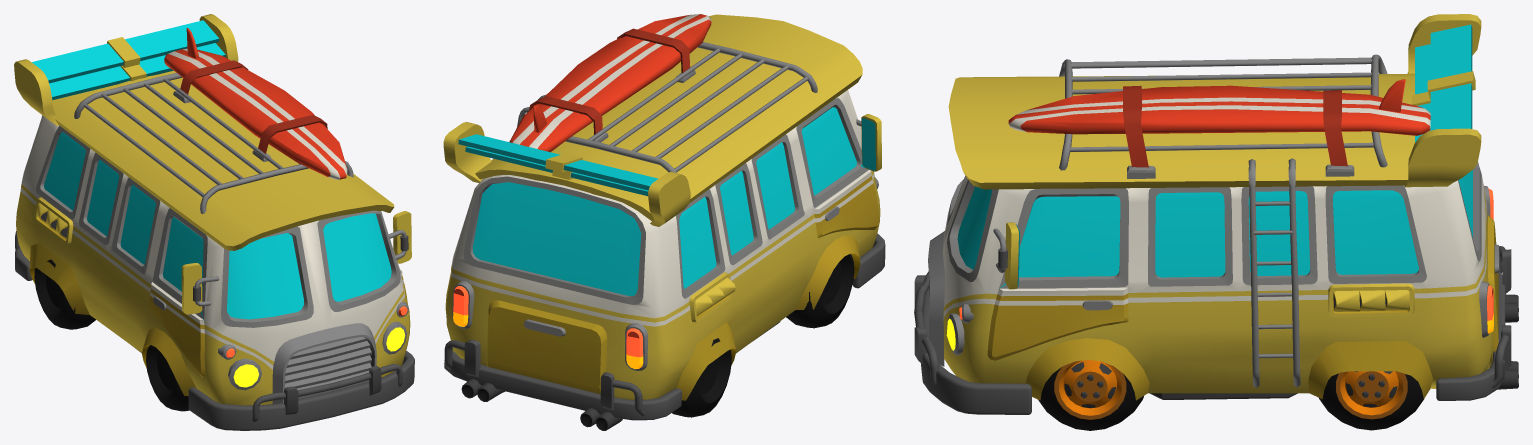
The model's file is VEH22_B.fbx.
3 views of the same model, side by side, from view 1: azimuth 30°, elevation 25°; view 2: azimuth 150°, elevation 25°; view 3: azimuth 270°, elevation 25° (orthographic). The views are drawn at different scales.
Visible parts, largest first — view 1: VEH22_B, VEH22B_BodyParts, VEH22B_Wheel_BR, VEH22B_Wheel_FR; view 2: VEH22_B, VEH22B_BodyParts, VEH22B_Wheel_FR, VEH22B_Wheel_BR; view 3: VEH22_B, VEH22B_BodyParts, VEH22B_Wheel_FL, VEH22B_Wheel_BL.
Part boxes in pixels (left/top/right/bottom): VEH22_B: left=14, top=14, right=414, bottom=430; VEH22B_BodyParts: left=164, top=28, right=347, bottom=179; VEH22B_Wheel_BR: left=34, top=259, right=95, bottom=329; VEH22B_Wheel_FR: left=146, top=345, right=189, bottom=411; VEH22_B: left=443, top=14, right=885, bottom=430; VEH22B_BodyParts: left=509, top=14, right=711, bottom=152; VEH22B_Wheel_FR: left=786, top=254, right=854, bottom=328; VEH22B_Wheel_BR: left=672, top=338, right=731, bottom=417; VEH22_B: left=914, top=14, right=1518, bottom=414; VEH22B_BodyParts: left=1008, top=79, right=1430, bottom=388; VEH22B_Wheel_FL: left=1038, top=359, right=1143, bottom=430; VEH22B_Wheel_BL: left=1319, top=371, right=1423, bottom=430.
Bounding box in the file's own units: 259 × 278 × 470.
Materials: 1 (1 with a texture image).
